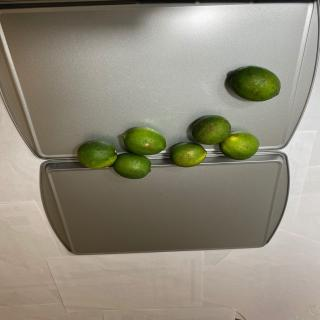Chilli: (229, 65, 281, 102)
Lemon: (122, 126, 166, 156), (192, 115, 232, 145), (77, 140, 117, 169), (219, 131, 259, 160), (114, 153, 152, 180), (170, 142, 207, 167)
